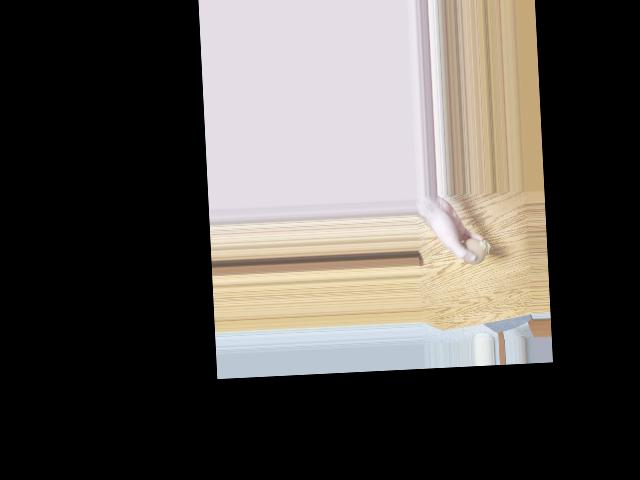onion: (462, 241, 484, 263)
